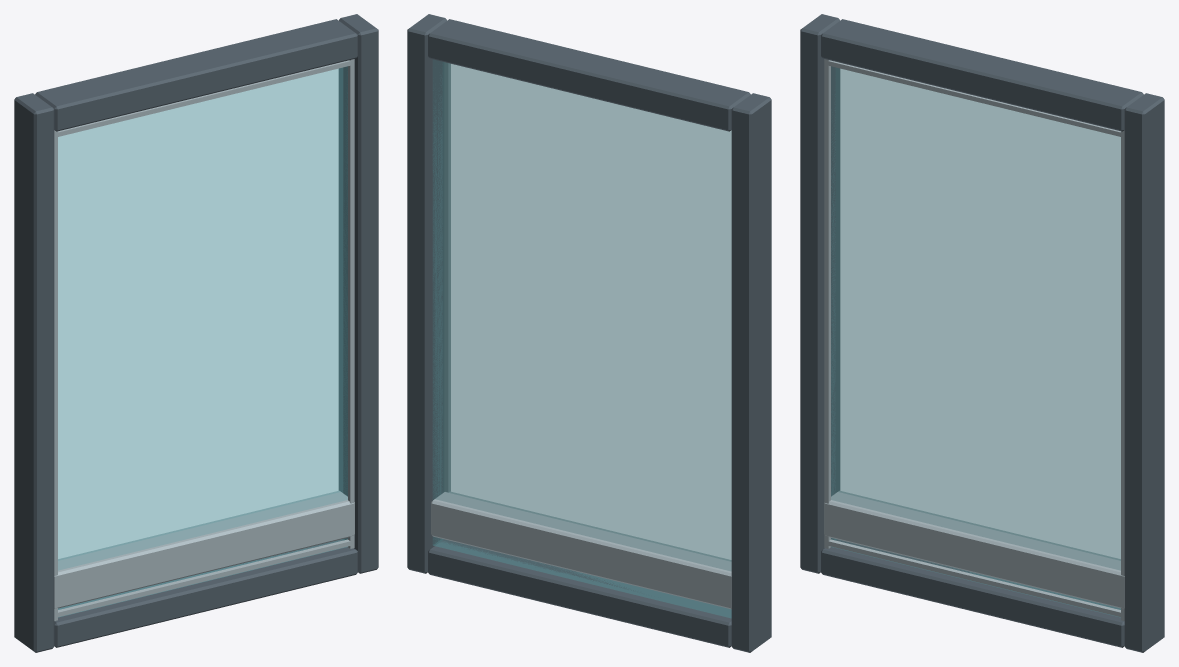
File: 01_wall_lab_glass.glb
3 views of the same model, side by side, from view 1: azimuth 30°, elevation 25°; view 2: azimuth 150°, elevation 25°; view 3: azimuth 330°, elevation 25° (orthographic).
Visible parts, largest first — view 1: 01_wall_lab_glass; view 2: 01_wall_lab_glass; view 3: 01_wall_lab_glass.
Part boxes in pixels (x1=…): 01_wall_lab_glass: x1=14, y1=14, x2=378, y2=652; 01_wall_lab_glass: x1=407, y1=14, x2=771, y2=652; 01_wall_lab_glass: x1=800, y1=14, x2=1164, y2=652.
Bounding box in the file's own units: 2 × 3 × 0.22.
